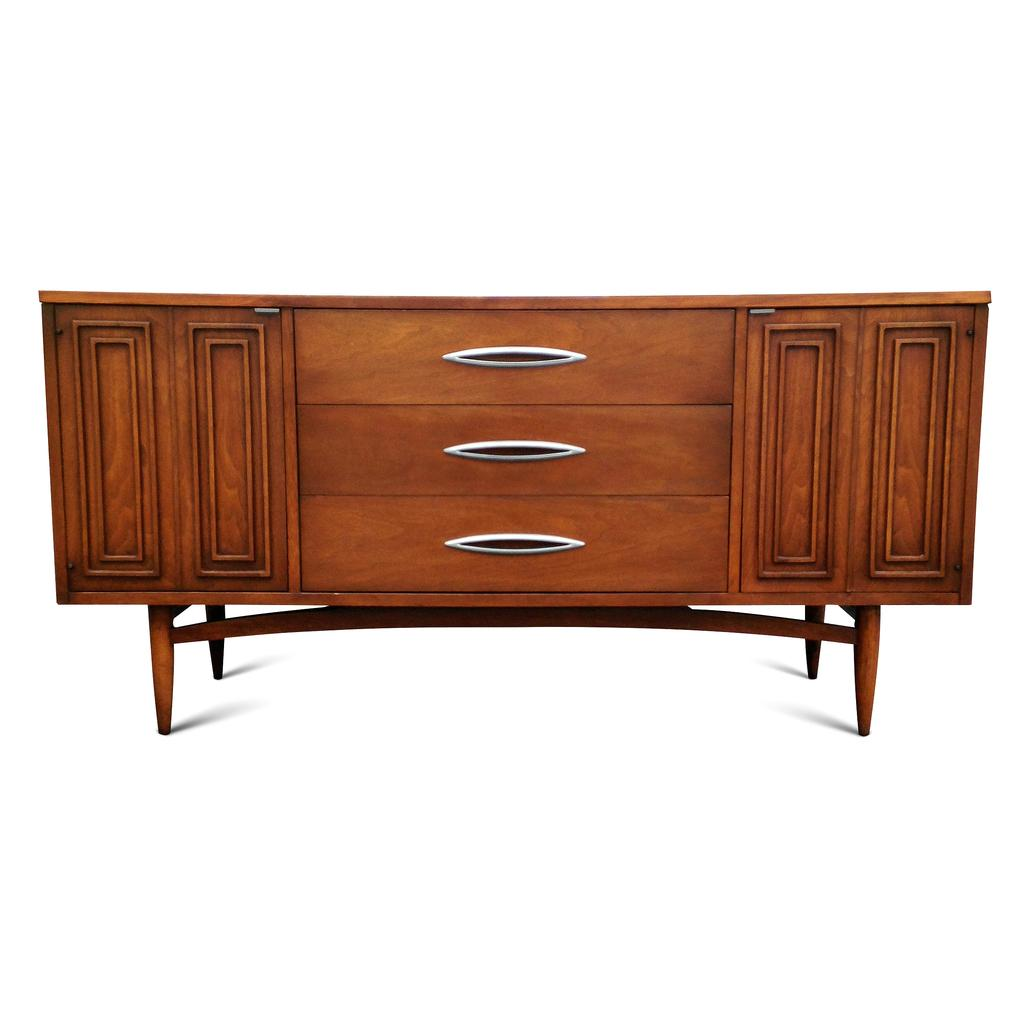cabinet_door: (306, 310, 734, 404), (304, 499, 730, 579), (302, 412, 732, 490)
handle: (438, 518, 586, 562), (450, 336, 584, 384), (443, 421, 579, 468)
